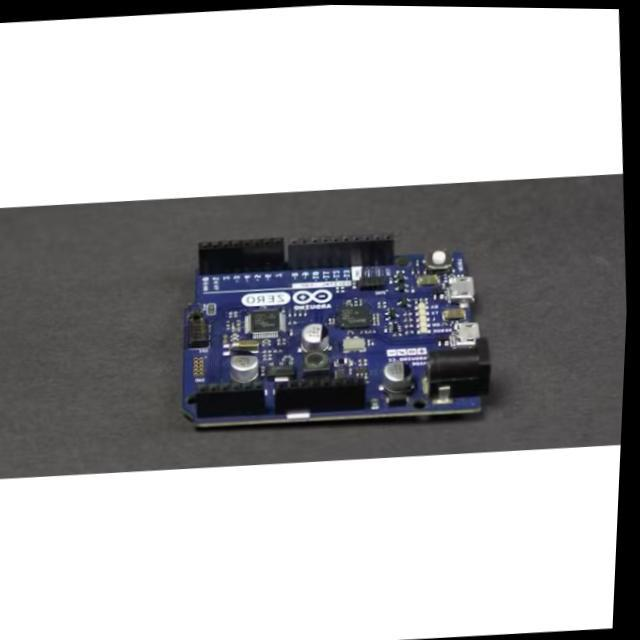Arduino-Zero: (183, 238, 491, 428)
